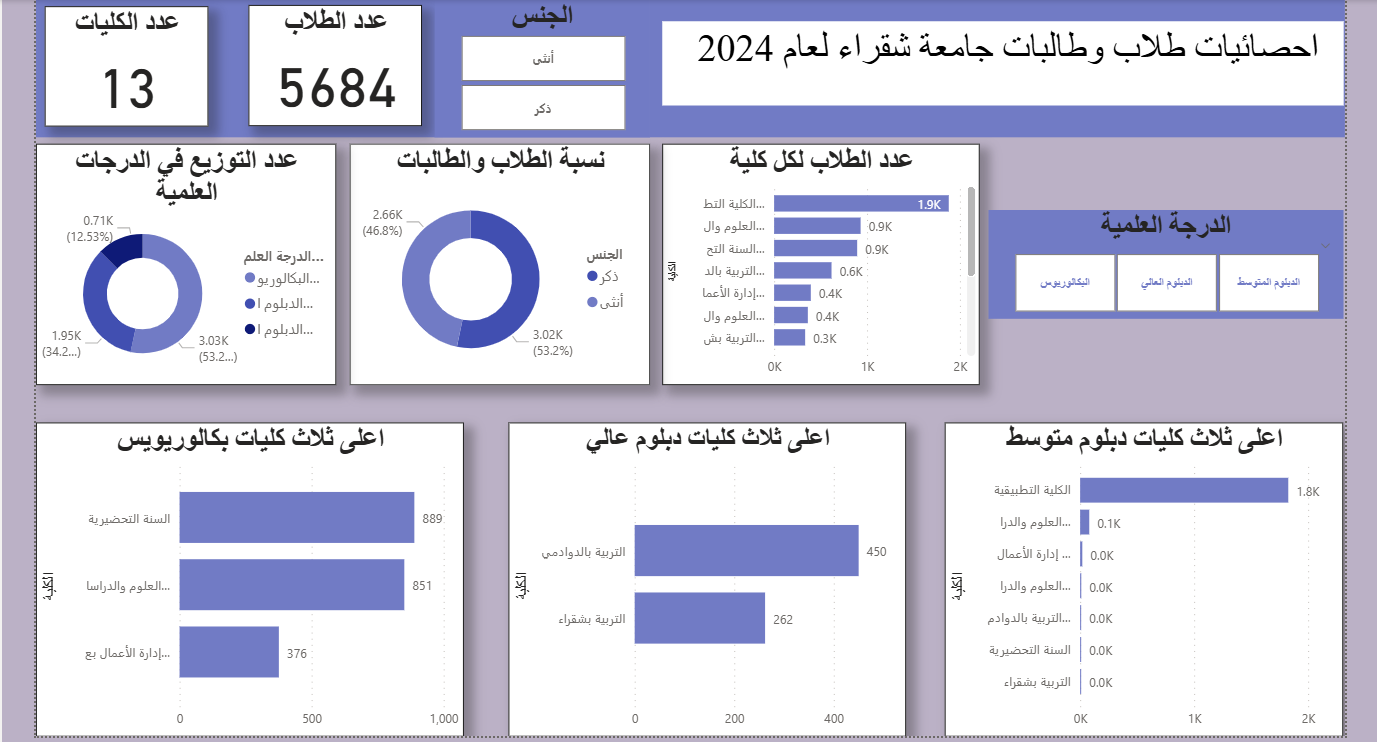

The page's visual inventory and layout, read from the dashboard file:
{"tool":"powerbi","page":{"name":"Page 1","canvas":[1280,720],"ordinal":0},"visuals":[{"type":"barChart","title":"عدد الطلاب لكل كلية ","fields":{"Category":["ورقة1.الكلية "],"Y":["CountNonNull(ورقة1.العدد)"]},"box":[612.4,140.6,310.5,235.9],"z":0},{"type":"donutChart","title":"نسبة الطلاب والطالبات ","fields":{"Category":["ورقة1.الجنس"],"Y":["CountNonNull(ورقة1.العدد)"]},"box":[306.8,140.6,293.4,235.9],"z":1000},{"type":"donutChart","title":"عدد التوزيع في الدرجات العلمية ","fields":{"Y":["CountNonNull(ورقة1.العدد)"],"Category":["ورقة1.الدرجة العلمية الحالية"]},"box":[0,140.6,293.4,235.9],"z":2000},{"type":"barChart","title":" اعلى ثلاث كليات بكالوريويس","fields":{"Y":["CountNonNull(ورقة1.العدد)"],"Category":["ورقة1.الكلية "]},"box":[0,413.2,418.1,306.8],"z":3000},{"type":"shape","box":[0,0,1280,134.3],"z":4000},{"type":"textbox","box":[612.8,20.5,666.7,82.1],"z":5000},{"type":"slicer","title":"الدرجة العلمية","fields":{"Values":["ورقة1.الدرجة العلمية الحالية"]},"box":[931.5,205.4,347.2,106.3],"z":6000},{"type":"card","title":"عدد الطلاب","fields":{"Values":["CountNonNull(ورقة1.العدد)"]},"box":[207.8,4.9,169.9,118.6],"z":7000},{"type":"card","title":"عدد الكليات","fields":{"Values":["Count(ورقة1.الكلية )"]},"box":[8.6,6.1,160.1,117.4],"z":8000},{"type":"slicer","title":"الجنس","fields":{"Values":["ورقة1.الجنس"]},"box":[389.9,0,210.3,134.5],"z":9000},{"type":"clusteredBarChart","title":" اعلى ثلاث كليات دبلوم عالي","fields":{"Category":["ورقة1.الكلية "],"Y":["Count(ورقة1.العدد)"]},"box":[462.1,413.2,388.7,306.8],"z":9001},{"type":"clusteredBarChart","title":" اعلى ثلاث كليات دبلوم متوسط","fields":{"Y":["Count(ورقة1.العدد)"],"Category":["ورقة1.الكلية "]},"box":[888.7,413.2,389.9,306.8],"z":9002}]}

Visuals, with their boxes in screenshot pixels (x1, y1, x2, y2):
"عدد الطلاب لكل كلية " barChart: box=[658, 143, 974, 383]
"نسبة الطلاب والطالبات " donutChart: box=[348, 143, 646, 383]
"عدد التوزيع في الدرجات العلمية " donutChart: box=[36, 143, 334, 383]
" اعلى ثلاث كليات بكالوريويس" barChart: box=[36, 420, 461, 732]
shape: box=[36, 0, 1337, 137]
textbox: box=[659, 21, 1337, 104]
"الدرجة العلمية" slicer: box=[983, 209, 1336, 317]
"عدد الطلاب" card: box=[247, 5, 420, 126]
"عدد الكليات" card: box=[45, 6, 207, 126]
"الجنس" slicer: box=[432, 0, 646, 137]
" اعلى ثلاث كليات دبلوم عالي" clusteredBarChart: box=[506, 420, 901, 732]
" اعلى ثلاث كليات دبلوم متوسط" clusteredBarChart: box=[939, 420, 1336, 732]
